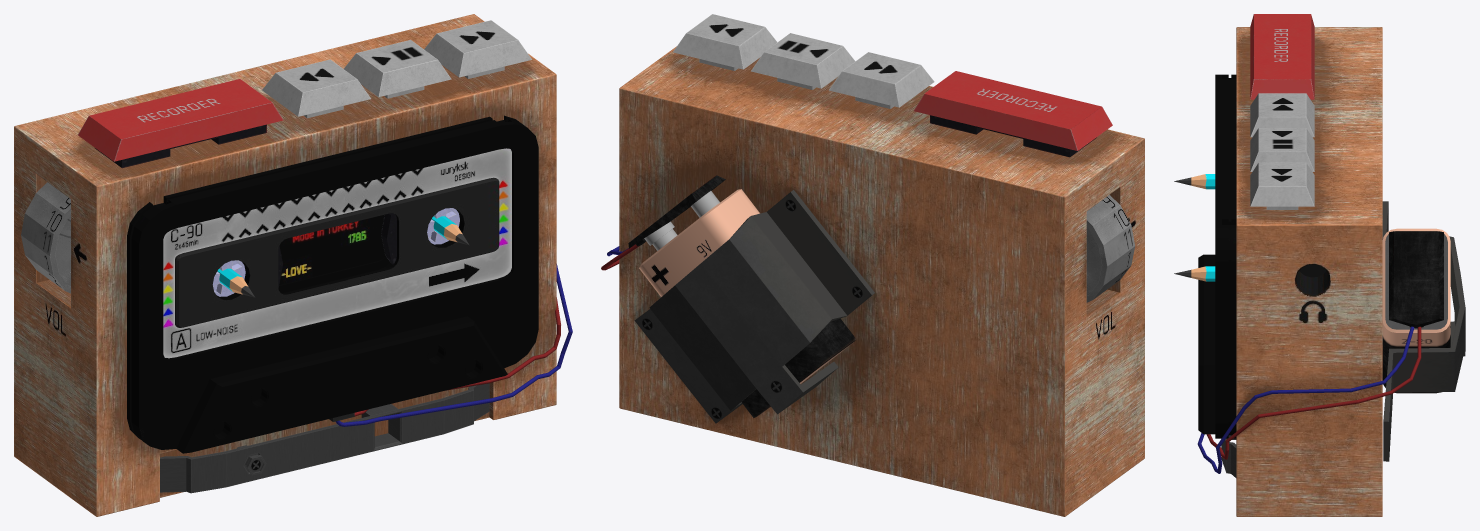
File: obj_vintage_walkman_654225.glb
3 renders of one model, left to right at view 1: azimuth 30°, elevation 25°; view 2: azimuth 150°, elevation 25°; view 3: azimuth 270°, elevation 25°, orthographic. The views are drawn at different scales.
Parts seen in each view (by area): view 1: obj_vintage_walkman_654225; view 2: obj_vintage_walkman_654225; view 3: obj_vintage_walkman_654225.
Boxes of the visible parts, x1,y1,x2,y2 form: obj_vintage_walkman_654225: [14, 14, 572, 516]; obj_vintage_walkman_654225: [601, 14, 1144, 516]; obj_vintage_walkman_654225: [1174, 14, 1465, 516].
Size of the model in its own units: 0.5 by 0.3498 by 0.2895.
Materials: 14 (14 with a texture image).
